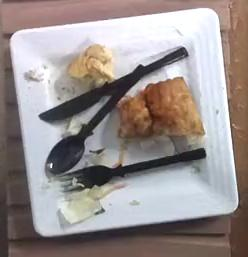pizza_crust: (116, 76, 202, 136)
